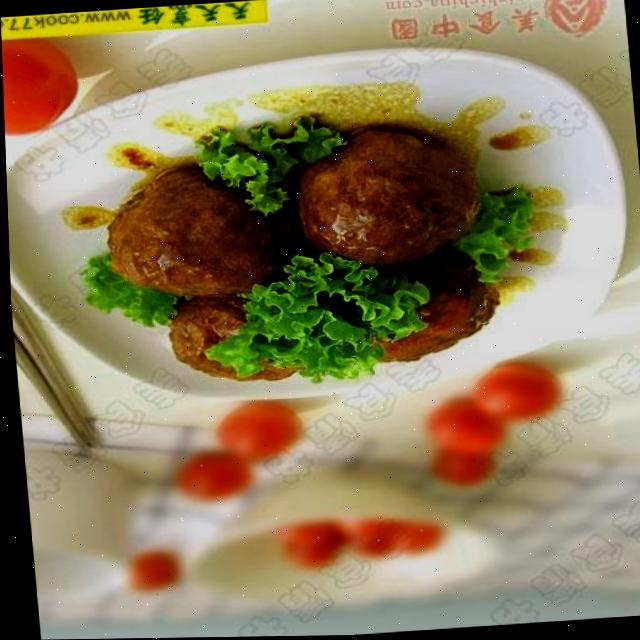猪肉菜式: (22, 71, 586, 418)
